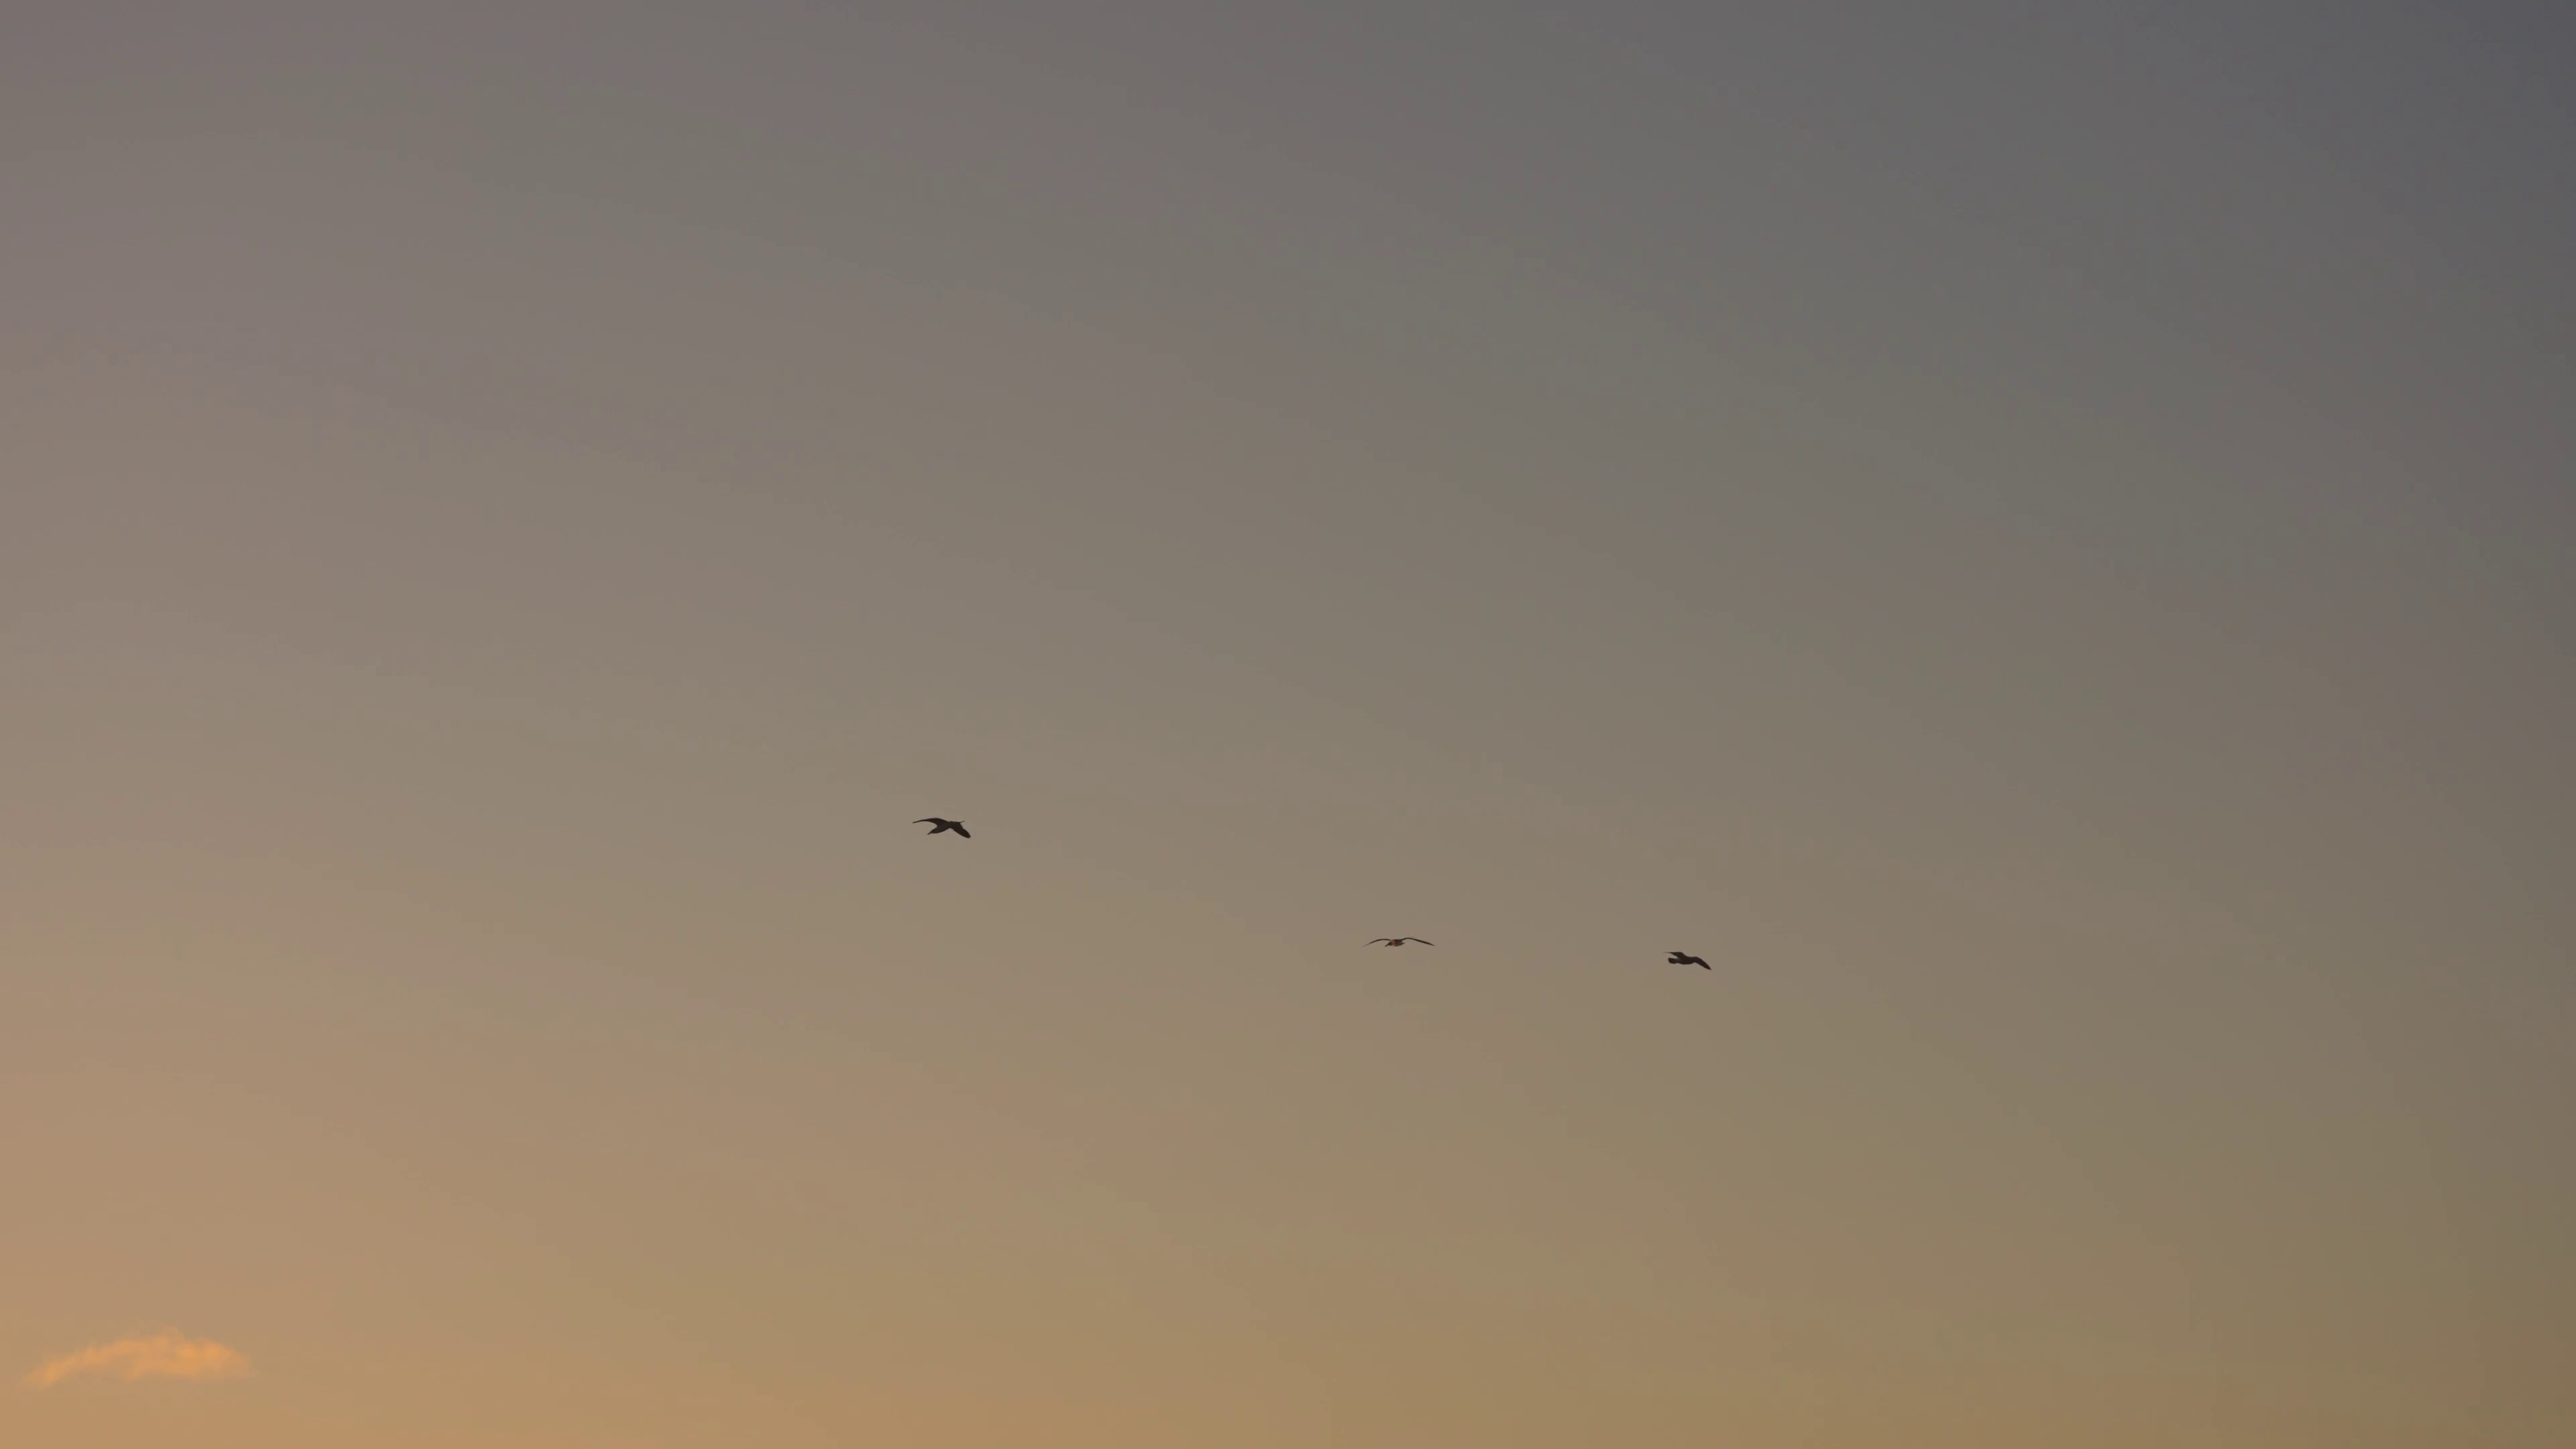bird: (911, 816, 971, 839), (1364, 932, 1433, 950), (1665, 950, 1713, 970)
